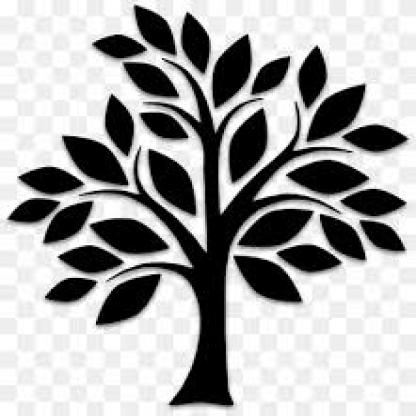trunk_reflex: (179, 292, 231, 394)
